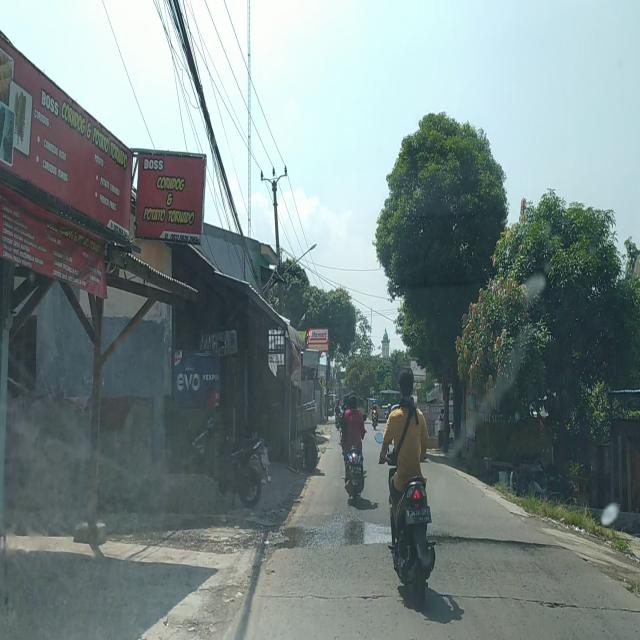Sewer Cover: (261, 588, 640, 617)
